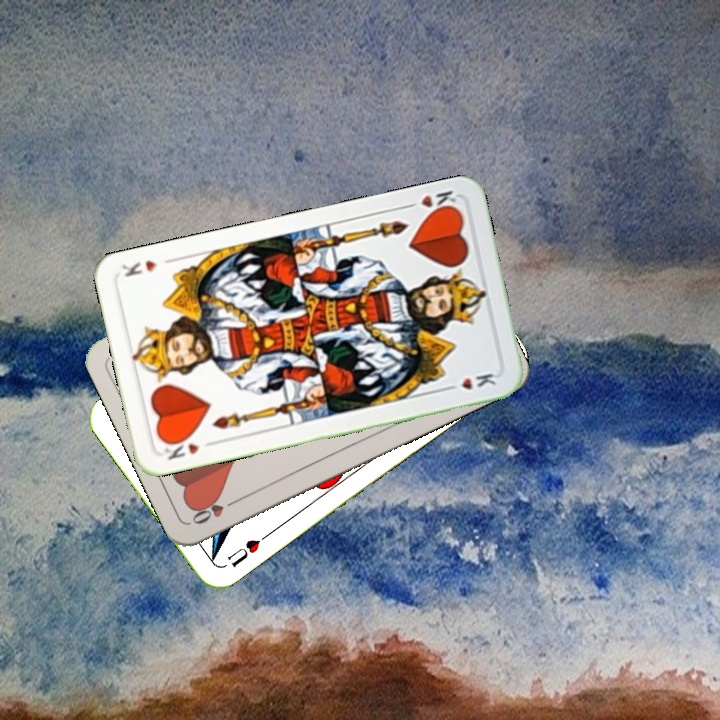HK: (400, 186, 461, 218), (158, 432, 217, 463)
HO: (188, 494, 243, 527)
HU: (223, 529, 271, 570)
